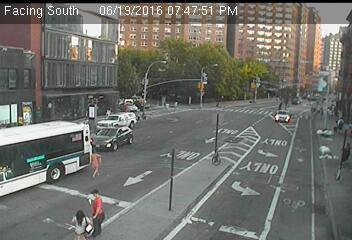neg: (315, 142, 338, 172), (313, 114, 332, 139), (190, 71, 207, 93), (277, 109, 293, 131), (184, 92, 196, 108)
pos: (78, 185, 117, 237), (82, 147, 107, 181), (71, 208, 93, 238)
